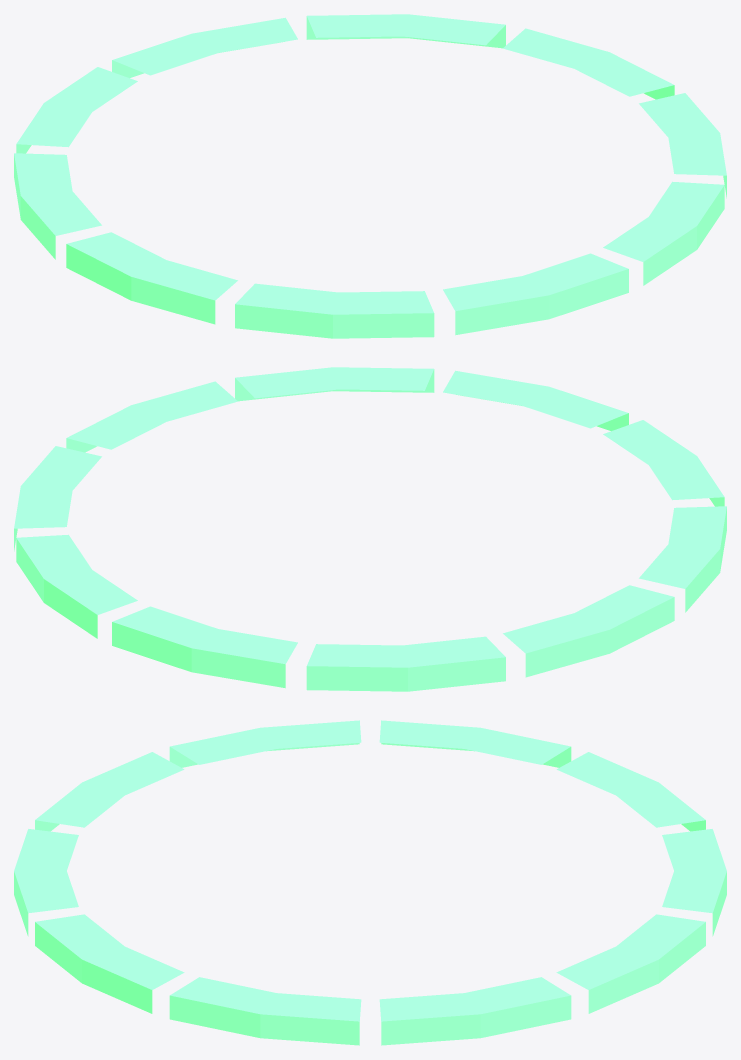
The model's file is hpr_10.glb.
3 views of the same model, one above another, from view 1: azimuth 30°, elevation 25°; view 2: azimuth 150°, elevation 25°; view 3: azimuth 270°, elevation 25° (orthographic).
Parts seen in each view (by area): view 1: hpr_10; view 2: hpr_10; view 3: hpr_10.
Part boxes in pixels (x1,y1,x2,y2): hpr_10: [14, 14, 726, 338]; hpr_10: [14, 367, 726, 691]; hpr_10: [14, 720, 726, 1045].
Size of the model in its own units: 2.16 by 0.08 by 2.16.
